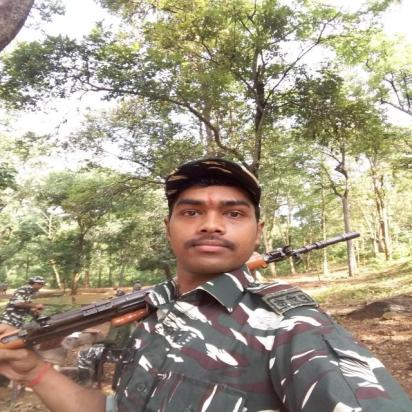Gun: (0, 228, 362, 350)
